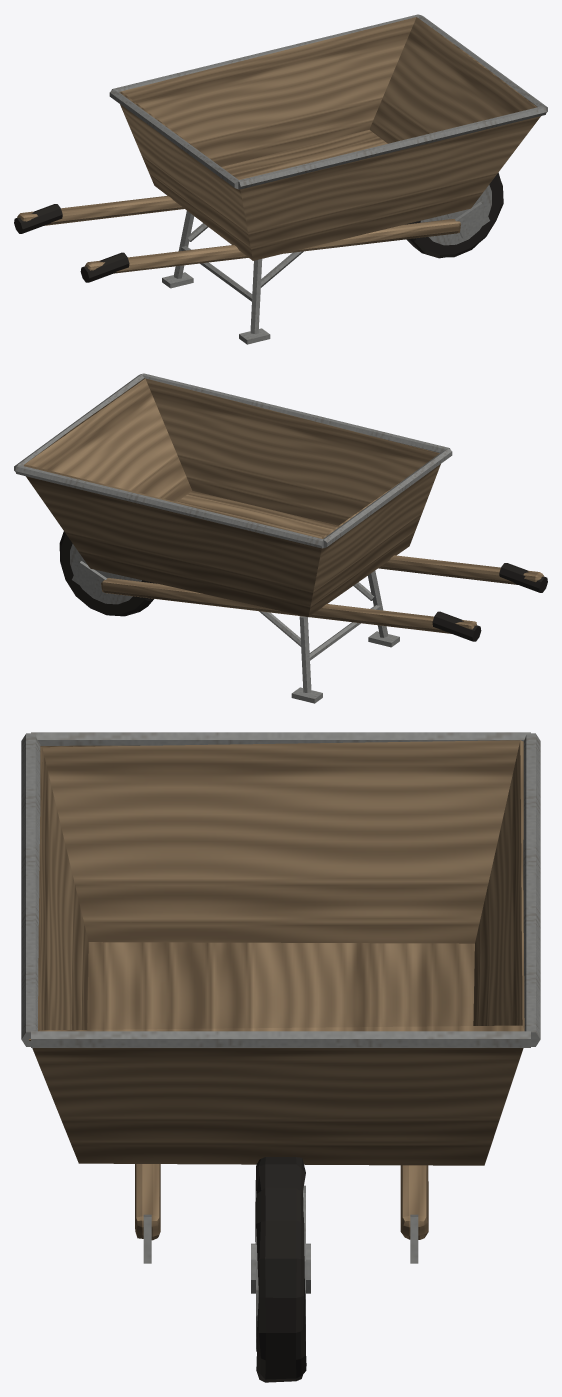
The model's file is wheelbarrow.glb.
The picture shows the model from 3 angles, top to bottom: view 1: azimuth 30°, elevation 25°; view 2: azimuth 150°, elevation 25°; view 3: azimuth 270°, elevation 25°; orthographic projection. The views are drawn at different scales.
Parts seen in each view (by area): view 1: Wheelbarrow; view 2: Wheelbarrow; view 3: Wheelbarrow.
Boxes of the visible parts, left/top/right/bottom form: Wheelbarrow: left=14, top=14, right=547, bottom=344; Wheelbarrow: left=14, top=373, right=547, bottom=703; Wheelbarrow: left=21, top=732, right=540, bottom=1382.
Bounding box in the file's own units: 1.55 × 0.618 × 0.778.
3 materials, 2 textured.
